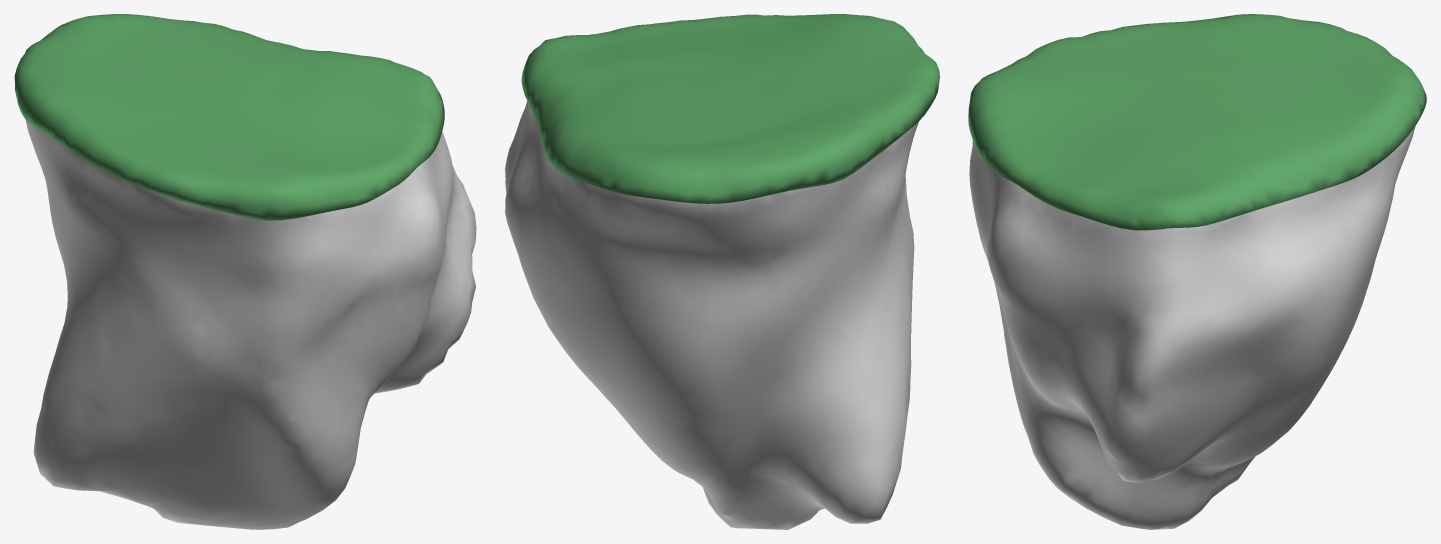
Rendered from IslandsSquare1.fbx.
3 renders of one model, left to right at view 1: azimuth 30°, elevation 25°; view 2: azimuth 150°, elevation 25°; view 3: azimuth 270°, elevation 25°, orthographic. The views are drawn at different scales.
Parts seen in each view (by area): view 1: FullScaleBottom, FullScaleTop; view 2: FullScaleBottom, FullScaleTop; view 3: FullScaleBottom, FullScaleTop.
Boxes of the visible parts, <box> form: FullScaleBottom: <box>25,119,476,529</box>; FullScaleTop: <box>14,14,444,220</box>; FullScaleBottom: <box>505,101,919,529</box>; FullScaleTop: <box>521,14,939,203</box>; FullScaleBottom: <box>969,126,1415,529</box>; FullScaleTop: <box>968,14,1426,230</box>.
Size of the model in its own units: 2550 by 2685 by 2554.
